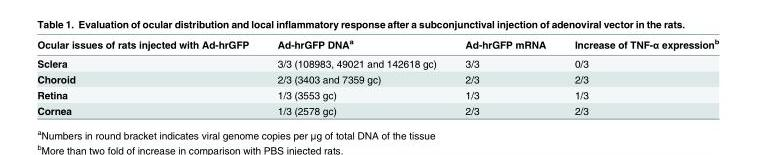table: (36, 36, 718, 116)
table column: (36, 36, 262, 116), (262, 36, 450, 116), (559, 36, 718, 116), (450, 36, 559, 116)
table column header: (36, 36, 718, 53)
table row: (36, 36, 718, 53), (36, 53, 718, 70), (36, 70, 718, 86), (36, 86, 718, 102), (36, 102, 718, 116)
